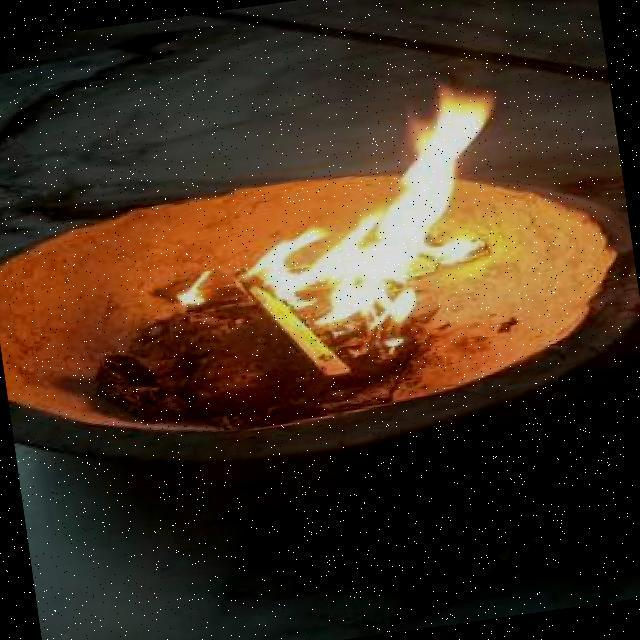Fire: (138, 60, 572, 373)
